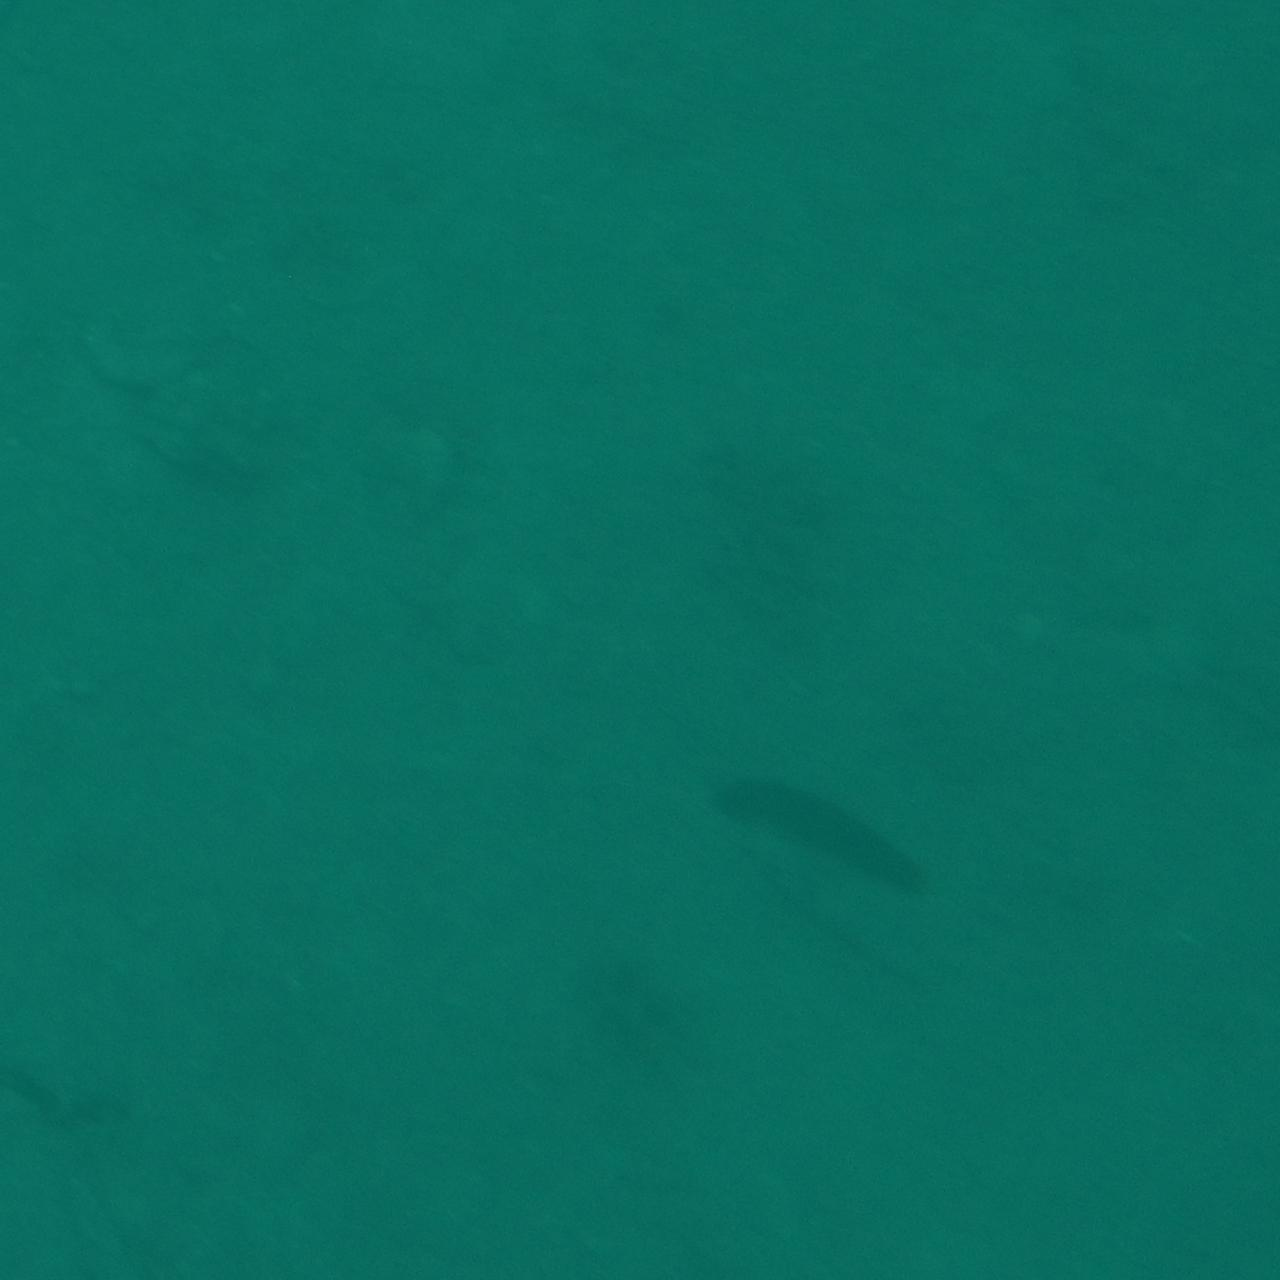Holothuria tubulosa: (679, 757, 953, 914)
